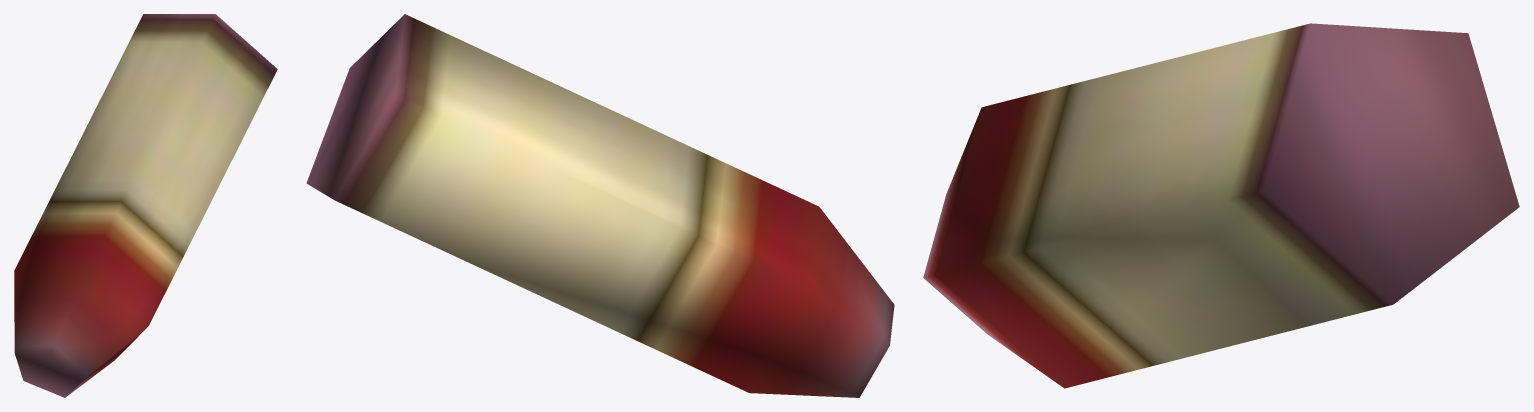
Rendered from lipstick.glb.
The picture shows the model from 3 angles, left to right: view 1: azimuth 30°, elevation 25°; view 2: azimuth 150°, elevation 25°; view 3: azimuth 270°, elevation 25°; orthographic projection. The views are drawn at different scales.
Visible parts, largest first — view 1: lipstick; view 2: lipstick; view 3: lipstick.
Boxes of the visible parts, box(x1,y1,x2,y2) form: lipstick: box(14, 14, 277, 397); lipstick: box(306, 14, 894, 397); lipstick: box(923, 23, 1519, 388).
Size of the model in its own units: 0.4803 by 0.3817 by 0.3842.
Materials: 1 (1 with a texture image).
